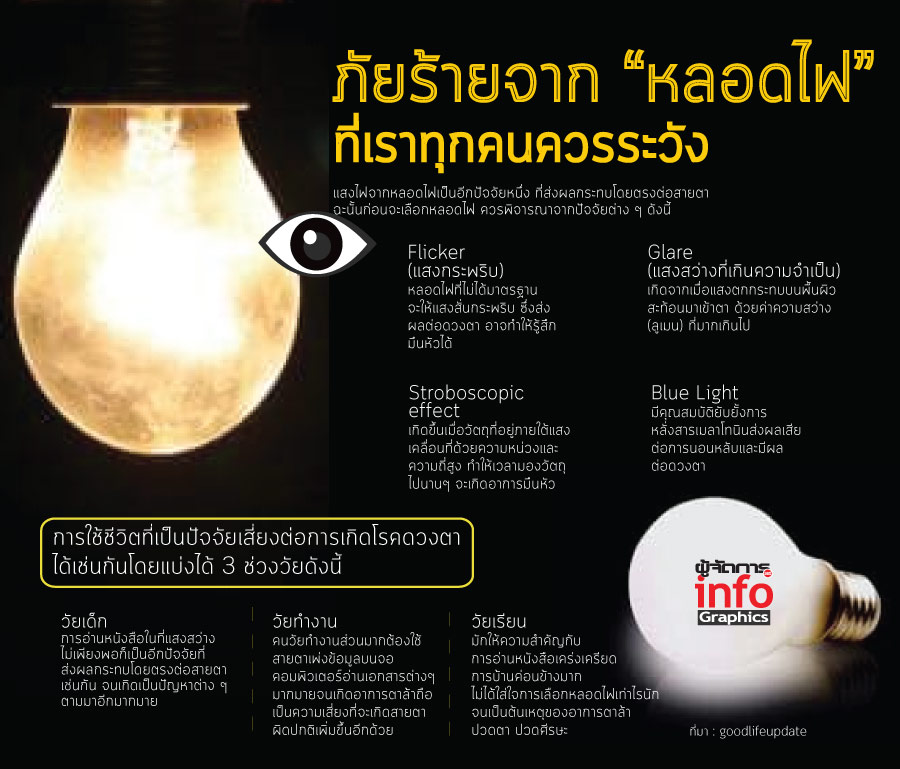Light_bulb: (629, 487, 895, 676)
